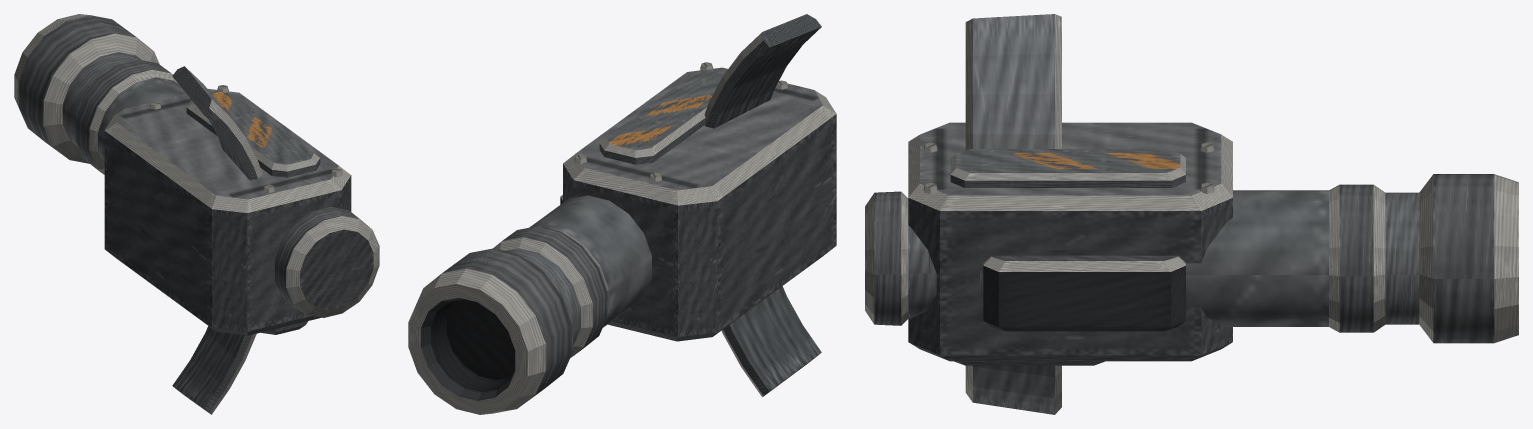
Rendered from Bazooka.glb.
3 renders of one model, left to right at view 1: azimuth 30°, elevation 25°; view 2: azimuth 150°, elevation 25°; view 3: azimuth 270°, elevation 25°, orthographic. The views are drawn at different scales.
Visible parts, largest first — view 1: Bazooka; view 2: Bazooka; view 3: Bazooka.
Boxes of the visible parts, bbox=[...] form: Bazooka: bbox=[14, 14, 379, 414]; Bazooka: bbox=[408, 14, 836, 414]; Bazooka: bbox=[865, 14, 1518, 414].
Size of the model in its own units: 0.185 by 0.3775 by 0.558.
Materials: 1 (1 with a texture image).
